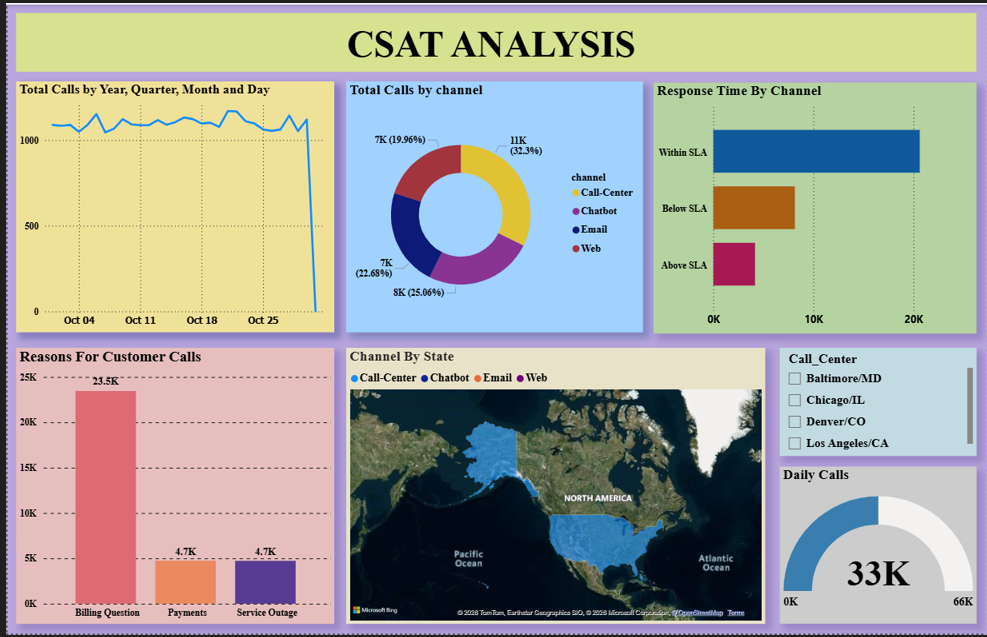

This screenshot's page, from the dashboard's own definition file:
{"tool":"powerbi","page":{"name":"Page 1","canvas":[1400,900],"ordinal":0},"visuals":[{"type":"lineChart","fields":{"Y":["project_csat_analytics CSAT.Total Calls"],"Category":["project_csat_analytics CSAT.call_timestamp.Variation.Date Hierarchy.Year","project_csat_analytics CSAT.call_timestamp.Variation.Date Hierarchy.Quarter","project_csat_analytics CSAT.call_timestamp.Variation.Date Hierarchy.Month","project_csat_analytics CSAT.call_timestamp.Variation.Date Hierarchy.Day"]},"box":[12,109.8,454.6,358.5],"z":0},{"type":"donutChart","fields":{"Category":["project_csat_analytics CSAT.channel"],"Y":["project_csat_analytics CSAT.Total Calls"]},"box":[483.7,109.8,423.7,358.5],"z":1000},{"type":"clusteredColumnChart","title":"Reasons For Customer Calls","fields":{"Category":["project_csat_analytics CSAT.reason"],"Y":["project_csat_analytics CSAT.Total Calls"]},"box":[12,490.6,454.6,394.5],"z":2000},{"type":"clusteredBarChart","title":"Response Time By Channel ","fields":{"Y":["CountNonNull(project_csat_analytics CSAT.channel)"],"Category":["project_csat_analytics CSAT.response_time"]},"box":[922.9,111.5,461.4,358.5],"z":3000},{"type":"filledMap","title":"Channel By State","fields":{"Category":["project_csat_analytics CSAT.state"],"Series":["project_csat_analytics CSAT.channel"]},"box":[485.5,490.6,598.7,394.5],"z":4000},{"type":"slicer","fields":{"Values":["project_csat_analytics CSAT.call_center"]},"box":[1103,490.6,281.3,154.4],"z":5000},{"type":"gauge","fields":{"Y":["project_csat_analytics CSAT.Daily Calls"]},"box":[1103,660.4,281.3,224.7],"z":6000},{"type":"textbox","box":[12,12,1372.3,84.1],"z":7000}]}

Visuals, with their boxes in screenshot pixels (x1, y1, x2, y2), scaled from the page's 1400x900 canvas onto the 987x637 screenshot:
lineChart - project_csat_analytics CSAT.Total Calls x project_csat_analytics CSAT.call_timestamp.Variation.Date Hierarchy.Year: 8/78/329/331
donutChart - project_csat_analytics CSAT.channel x project_csat_analytics CSAT.Total Calls: 341/78/640/331
"Reasons For Customer Calls" clusteredColumnChart: 8/347/329/626
"Response Time By Channel " clusteredBarChart: 651/79/976/333
"Channel By State" filledMap: 342/347/764/626
slicer - project_csat_analytics CSAT.call_center: 778/347/976/457
gauge - project_csat_analytics CSAT.Daily Calls: 778/467/976/626
textbox: 8/8/976/68
